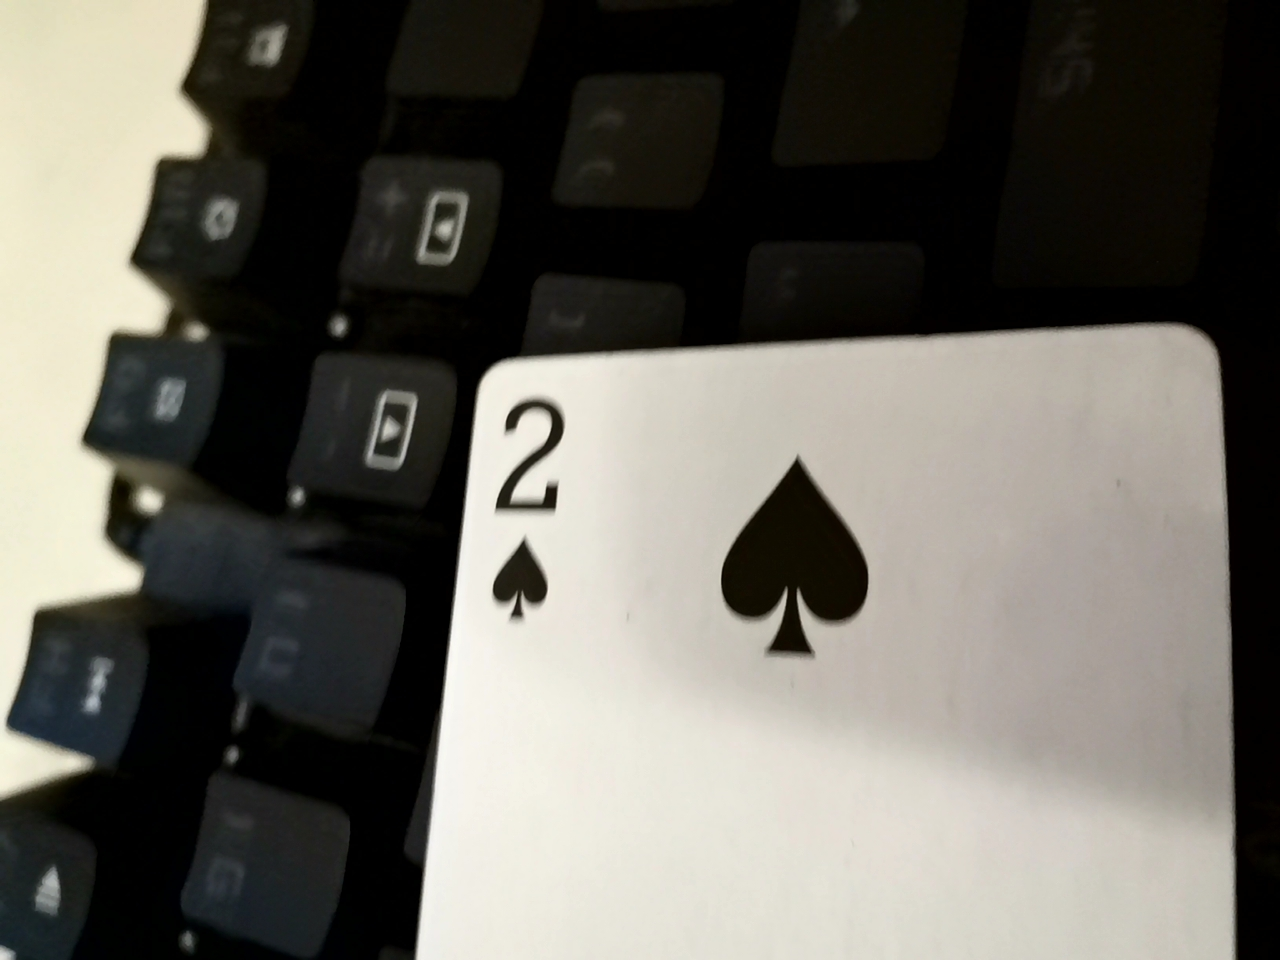ht 2: (390, 349, 1256, 956)
